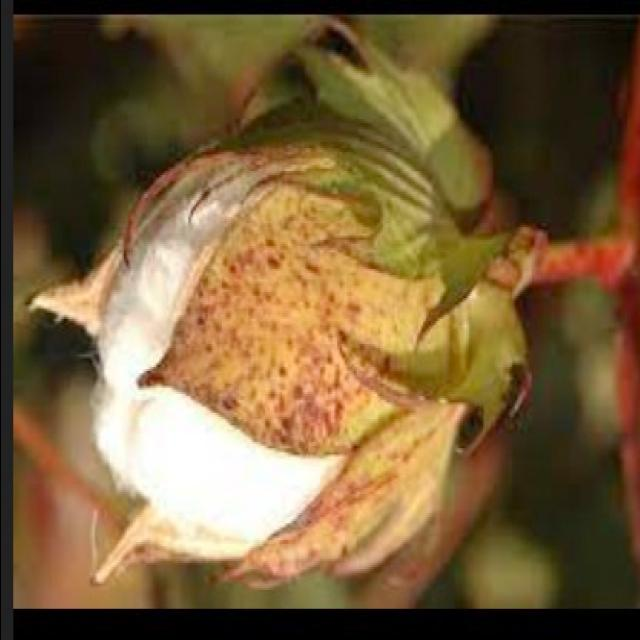Split Cotton Boll: (86, 97, 496, 576)
